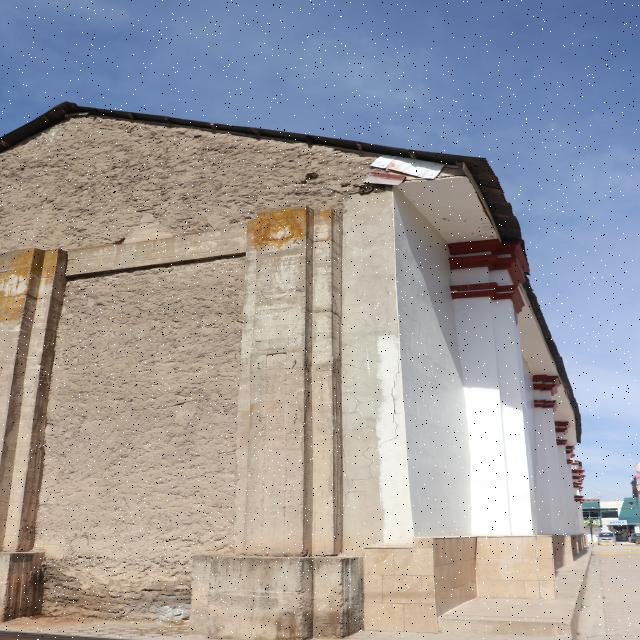colonial-architecture-: (0, 56, 603, 640)
